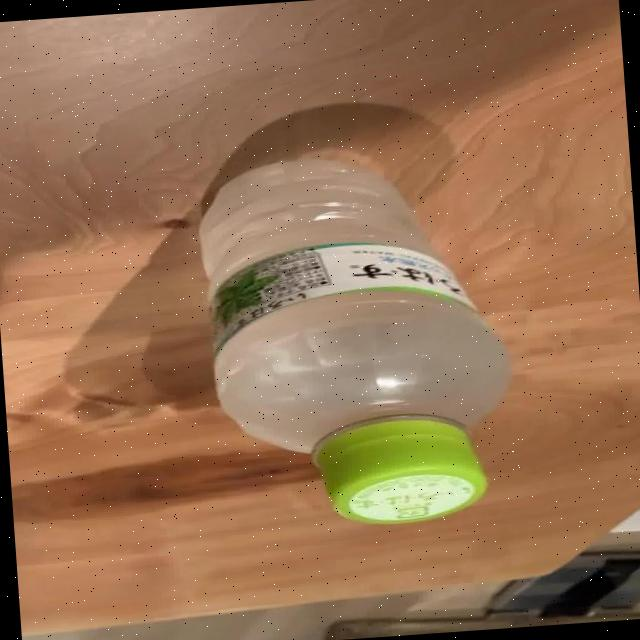bottle: (186, 142, 526, 538)
cap: (304, 408, 494, 530)
label: (176, 235, 494, 332)
